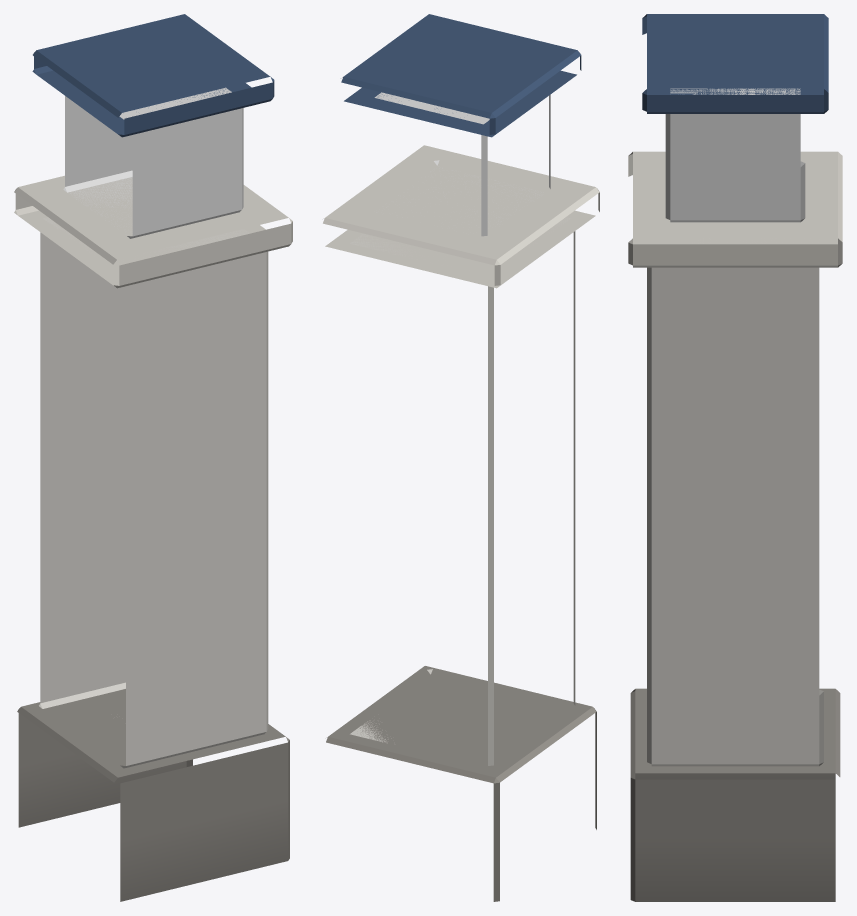
The model's file is gate_wall_end.glb.
3 views of the same model, side by side, from view 1: azimuth 30°, elevation 25°; view 2: azimuth 150°, elevation 25°; view 3: azimuth 270°, elevation 25° (orthographic). The views are drawn at different scales.
Visible parts, largest first — view 1: gate_wall_end; view 2: gate_wall_end; view 3: gate_wall_end.
Part boxes in pixels (bbox=[...]): gate_wall_end: bbox=[14, 14, 292, 901]; gate_wall_end: bbox=[323, 14, 599, 901]; gate_wall_end: bbox=[628, 14, 842, 901].
Size of the model in its own units: 0.92 by 3.82 by 0.92.
